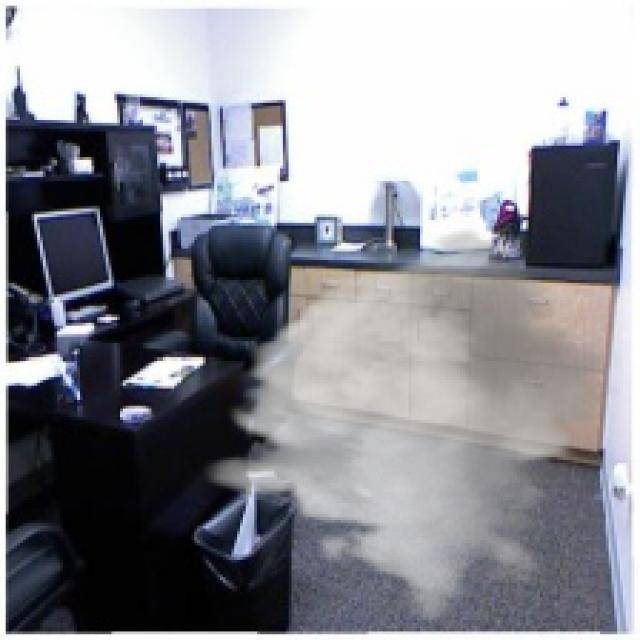Smoke: (203, 226, 623, 623)
